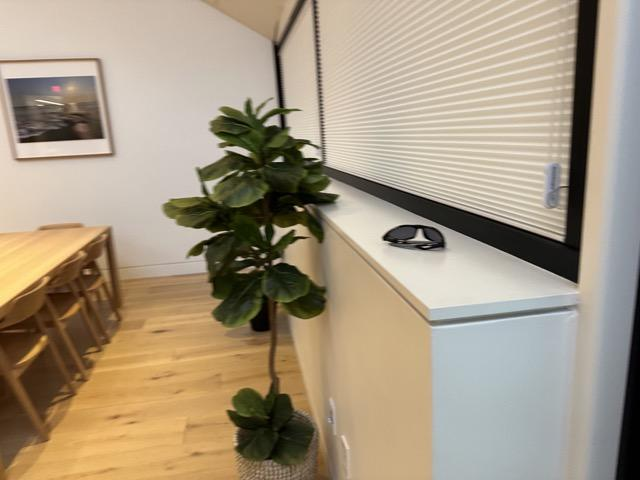Sunglasses: (383, 223, 447, 252)
